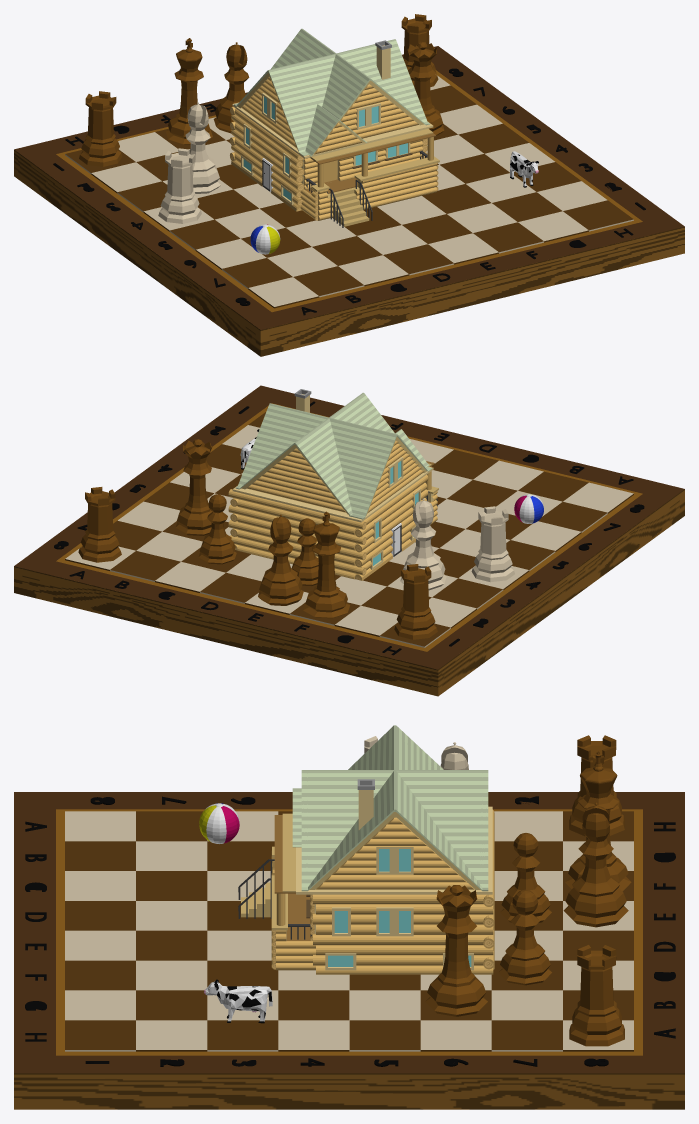
The picture shows the model from 3 angles, top to bottom: view 1: azimuth 30°, elevation 25°; view 2: azimuth 150°, elevation 25°; view 3: azimuth 270°, elevation 25°; orthographic projection. The views are drawn at different scales.
Parts seen in each view (by area): view 1: Cube.002, Cube.1516, OBJRANDOM_BEACHBALL, ANIMAL_VACA; view 2: Cube.002, Cube.1516, OBJRANDOM_BEACHBALL; view 3: Cube.002, Cube.1516, ANIMAL_VACA, OBJRANDOM_BEACHBALL.
Part boxes in pixels (x1,y1,x2,y2): Cube.002: (14,14,684,356); Cube.1516: (230,28,439,227); OBJRANDOM_BEACHBALL: (250,224,280,254); ANIMAL_VACA: (510,151,538,187); Cube.002: (14,385,684,696); Cube.1516: (228,389,438,580); OBJRANDOM_BEACHBALL: (514,494,543,523); Cube.002: (14,735,684,1109); Cube.1516: (238,725,494,974); ANIMAL_VACA: (204,979,272,1023); OBJRANDOM_BEACHBALL: (199,803,239,843).
Bounding box in the file's own units: 3981 × 1492 × 4012.
Materials: 28 (3 with a texture image).
